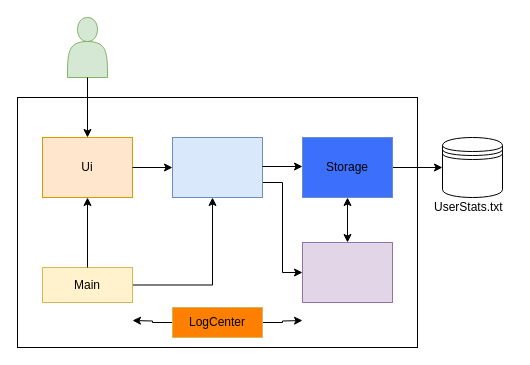
This 530x365 diagram has some shape labels left out. Here are the shapes that lost their labels. From the top down, the centre of each, then its label:
At pixel 217 167: "Logic".
At pixel 347 272: "Stats".
